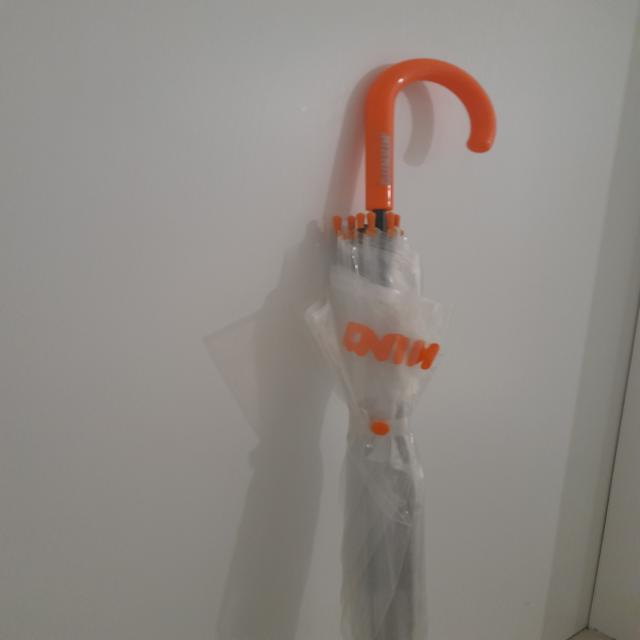umbrella: (308, 57, 498, 640)
